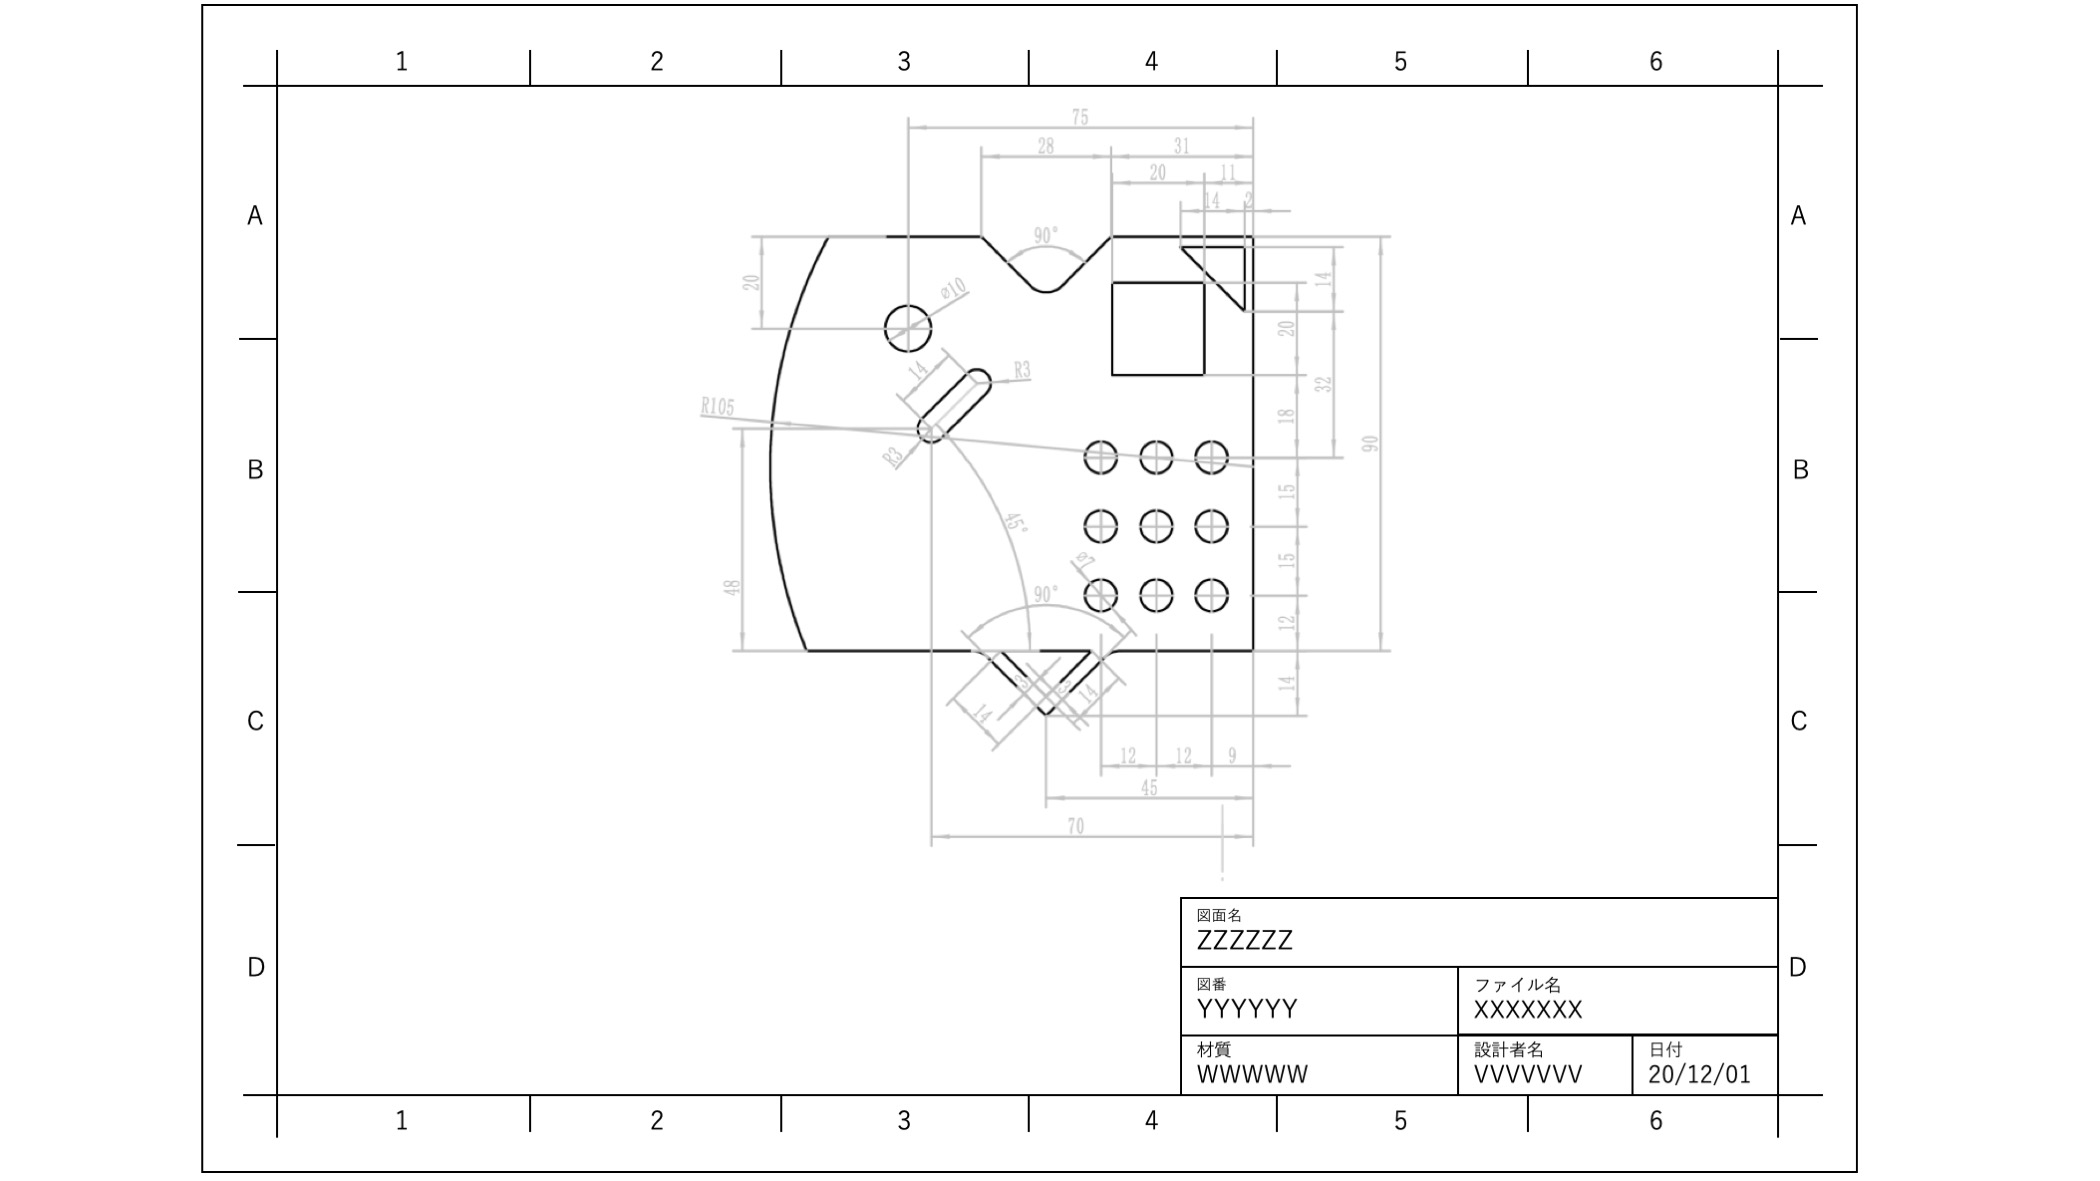circle: (877, 297, 935, 353), (1188, 567, 1233, 616), (1190, 500, 1233, 548), (1080, 570, 1121, 620), (1080, 497, 1119, 549), (1135, 497, 1175, 547), (1134, 568, 1175, 614), (1134, 433, 1175, 477), (1190, 434, 1229, 480), (1079, 434, 1121, 476)
rectangle: (1106, 275, 1212, 381)
round_rectangle: (909, 361, 989, 447)
triangle: (1175, 222, 1253, 317), (998, 636, 1093, 707)
